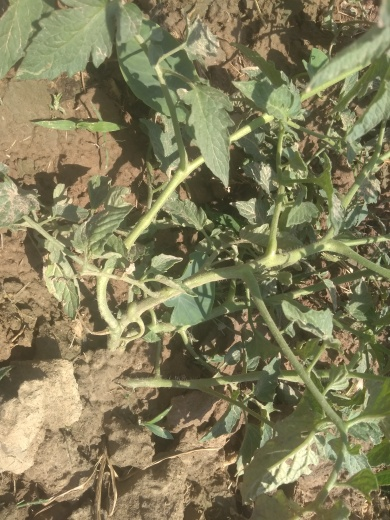tomato diseased leaf: (227, 424, 331, 505), (38, 235, 88, 315), (177, 14, 223, 71)
tomato plant: (114, 1, 373, 468)
